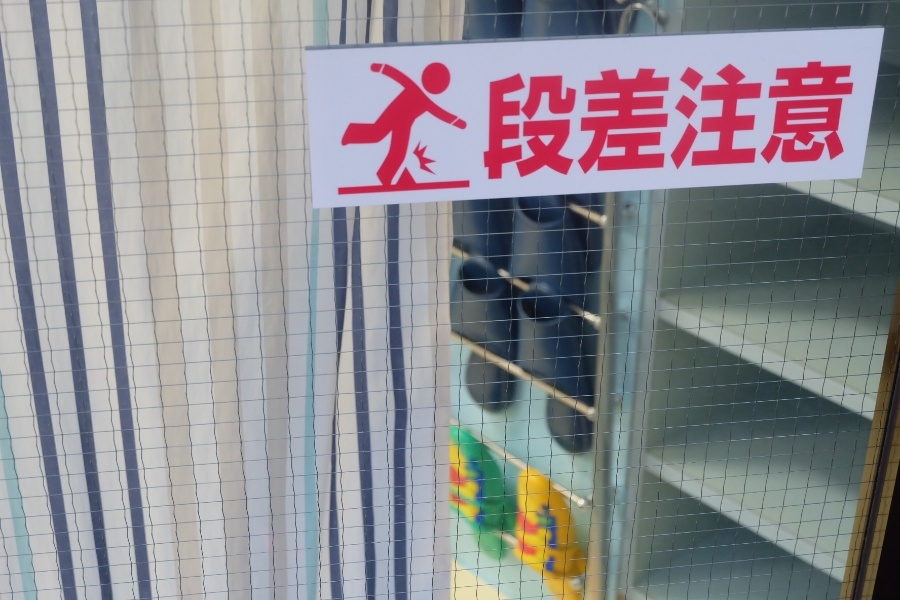text: (497, 59, 512, 183), (513, 59, 528, 183), (529, 59, 544, 183), (545, 59, 560, 183), (561, 59, 576, 183), (577, 59, 592, 183), (593, 59, 608, 183), (609, 59, 624, 183), (625, 59, 640, 183), (641, 59, 656, 183), (657, 59, 672, 183), (673, 59, 688, 183), (689, 59, 704, 183), (705, 59, 720, 183), (721, 59, 736, 183), (737, 59, 752, 183), (753, 59, 768, 183), (769, 59, 784, 183), (785, 59, 800, 183), (801, 59, 816, 183), (817, 59, 832, 183), (833, 59, 848, 183), (849, 59, 859, 183), (489, 59, 496, 183)
